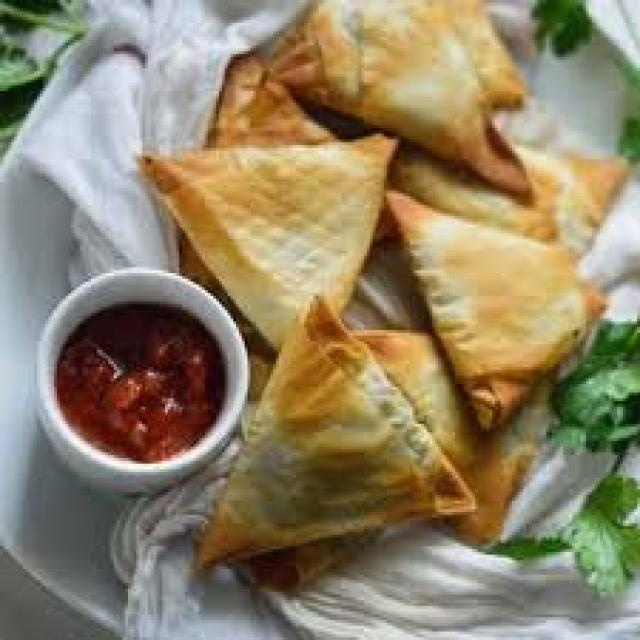SAMOSA: (191, 306, 472, 567), (260, 0, 544, 200), (141, 136, 397, 346), (393, 198, 600, 431), (354, 330, 529, 555), (397, 133, 635, 256)
